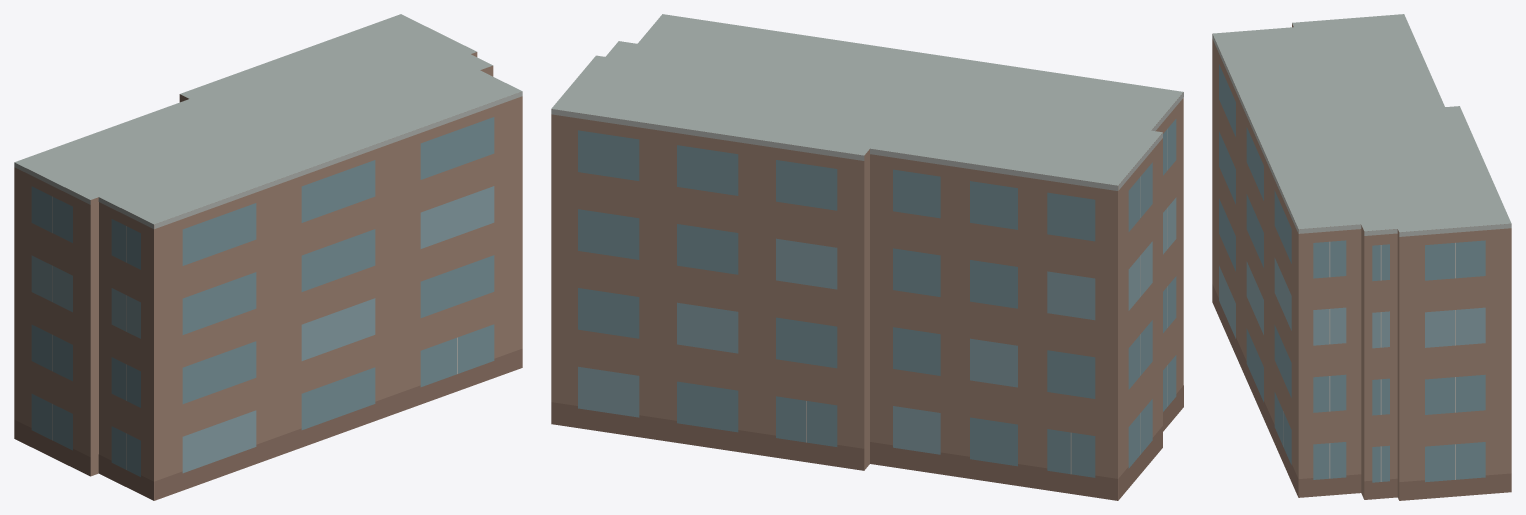
File: survey-upis-32604571.glb
The picture shows the model from 3 angles, left to right: view 1: azimuth 30°, elevation 25°; view 2: azimuth 150°, elevation 25°; view 3: azimuth 270°, elevation 25°; orthographic projection. The views are drawn at different scales.
Visible parts, largest first — view 1: survey-upis-32604571.tmp; view 2: survey-upis-32604571.tmp; view 3: survey-upis-32604571.tmp.
Boxes of the visible parts, <box> form: survey-upis-32604571.tmp: <box>14,14,522,500</box>; survey-upis-32604571.tmp: <box>551,14,1183,500</box>; survey-upis-32604571.tmp: <box>1212,14,1511,500</box>.
Bounding box in the file's own units: 24.41 × 14 × 14.14.
